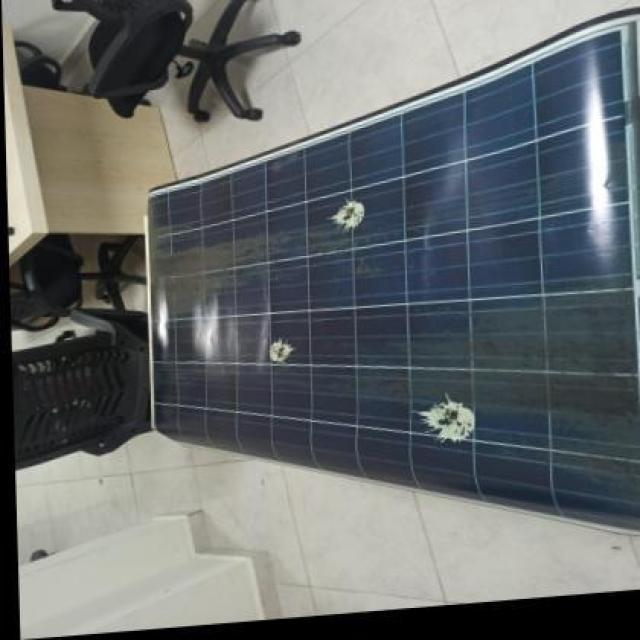soiled: (151, 18, 637, 540)
